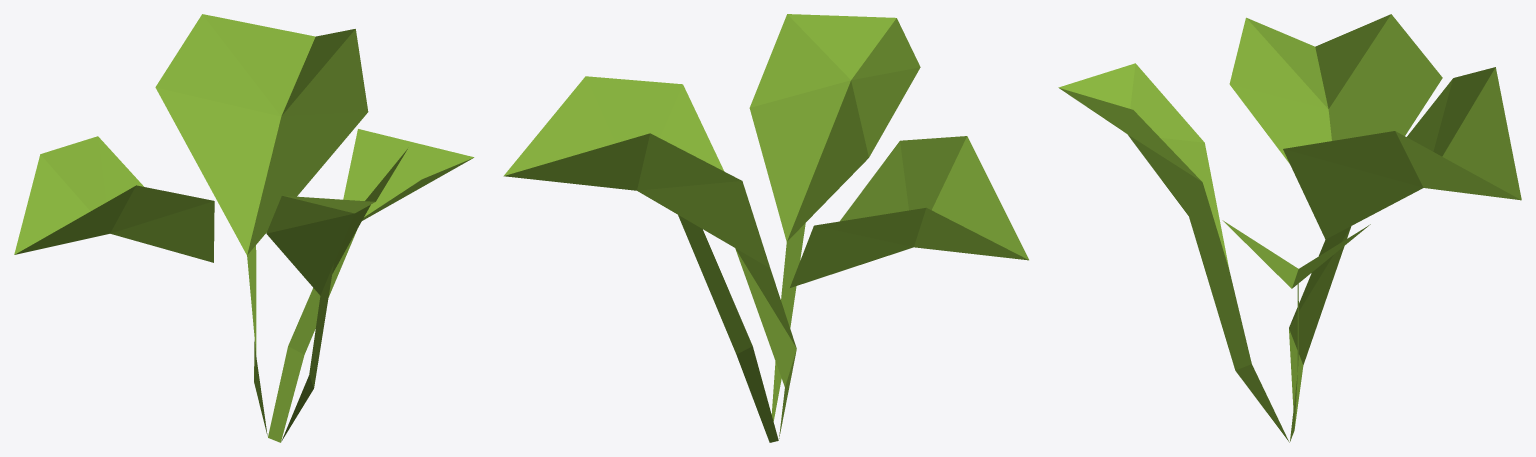
The model's file is SM_Water_Hyacinth_Single_Mature_A.fbx.
3 renders of one model, left to right at view 1: azimuth 30°, elevation 25°; view 2: azimuth 150°, elevation 25°; view 3: azimuth 270°, elevation 25°, orthographic. The views are drawn at different scales.
Parts seen in each view (by area): view 1: water-hyacinth-single-mature-a; view 2: water-hyacinth-single-mature-a; view 3: water-hyacinth-single-mature-a.
Part boxes in pixels (x1,y1,x2,y2): water-hyacinth-single-mature-a: (14,14,474,442); water-hyacinth-single-mature-a: (503,14,1028,442); water-hyacinth-single-mature-a: (1058,14,1521,442).
Bounding box in the file's own units: 0.3552 × 0.2681 × 0.2928.
